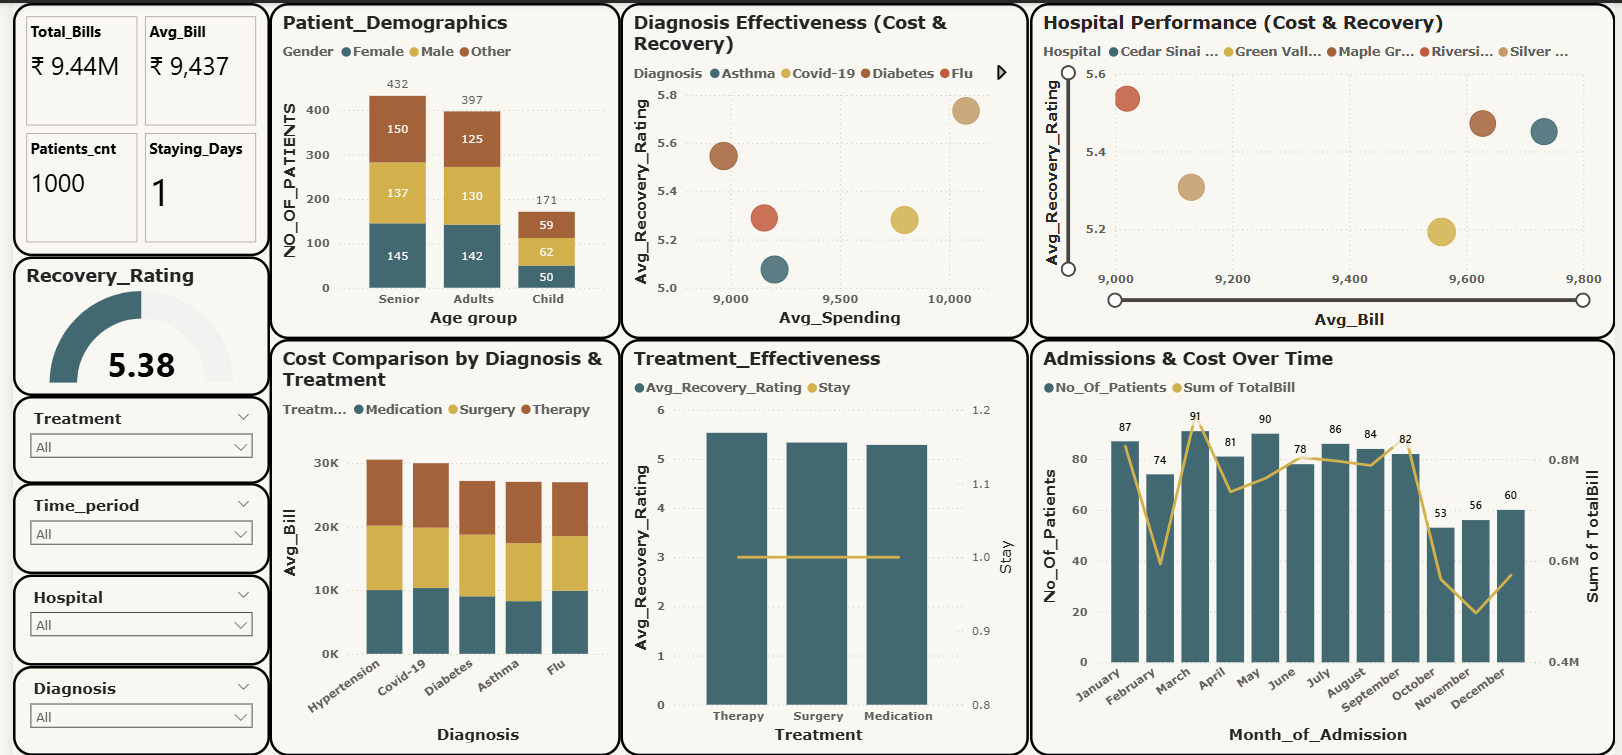

This screenshot's page, from the dashboard's own definition file:
{"tool":"powerbi","page":{"name":"Dashboad","canvas":[1700,800],"ordinal":1},"visuals":[{"type":"gauge","fields":{"Y":["Avg(hospital.RecoveryRating)"]},"box":[0,268.7,272.4,148.1],"z":0},{"type":"slicer","fields":{"Values":["hospital.Hospital"]},"box":[0,606.9,272.4,96.9],"z":1000},{"type":"columnChart","title":"Patient_Demographics","fields":{"Category":["patient.Age group"],"Y":["Count(patient.PatientID)"],"Series":["patient.Gender"]},"box":[272.4,0,372.9,356.5],"z":2000},{"type":"lineStackedColumnComboChart","title":"Cost Comparison by Diagnosis & Treatment","fields":{"Y":["Avg(patient.TotalBill)"],"Series":["patient.Treatment"],"Category":["patient.Diagnosis"]},"box":[272.4,356.5,372.9,442.4],"z":3000},{"type":"scatterChart","title":"Diagnosis Effectiveness (Cost & Recovery)","fields":{"X":["Avg(patient.TotalBill)"],"Y":["Avg(hospital.RecoveryRating)"],"Size":["CountNonNull(patient.PatientID)"],"Series":["patient.Diagnosis"]},"box":[645.3,0,433.2,356.5],"z":4000},{"type":"slicer","fields":{"Values":["patient.Treatment"]},"box":[0,416.8,272.4,93.2],"z":5000},{"type":"slicer","fields":{"Values":["patient.Diagnosis"]},"box":[0,703.8,272.4,95.1],"z":6000},{"type":"lineStackedColumnComboChart","title":"Admissions & Cost Over Time","fields":{"Category":["merged.Month_of_Admission"],"Y":["Count(patient.PatientID)"],"Y2":["Sum(patient.TotalBill)"]},"box":[1078.5,356.5,621.5,442.4],"z":7000},{"type":"slicer","fields":{"Values":["patient.AdmissionDate.Variation.Date Hierarchy.Year","patient.AdmissionDate.Variation.Date Hierarchy.Quarter","patient.AdmissionDate.Variation.Date Hierarchy.Month","patient.AdmissionDate.Variation.Date Hierarchy.Day"]},"box":[0,510,272.4,96.9],"z":8000},{"type":"scatterChart","title":"Hospital Performance (Cost & Recovery)","fields":{"X":["Avg(patient.TotalBill)"],"Y":["Avg(hospital.RecoveryRating)"],"Series":["hospital.Hospital"],"Size":["Count(hospital.PatientID)"]},"box":[1078.5,0,621.5,356.5],"z":9000},{"type":"lineStackedColumnComboChart","title":"Treatment_Effectiveness","fields":{"Category":["patient.Treatment"],"Y":["Avg(hospital.RecoveryRating)"],"Y2":["Avg(patient.LengthOfStay)"]},"box":[645.3,356.5,433.2,442.4],"z":10000},{"type":"cardVisual","fields":{"Data":["Sum(patient.TotalBill)","Avg(patient.TotalBill)","Count(patient.PatientID)","Avg(patient.LengthOfStay)"]},"box":[0,0,272.4,268.7],"z":11000}]}

Visuals, with their boxes in screenshot pixels (x1, y1, x2, y2), scaled from the page's 1700x800 canvas onto the 1622x755 screenshot:
gauge - Avg(hospital.RecoveryRating): Rect(0, 254, 260, 393)
slicer - hospital.Hospital: Rect(0, 573, 260, 664)
"Patient_Demographics" columnChart: Rect(260, 0, 616, 336)
"Cost Comparison by Diagnosis & Treatment" lineStackedColumnComboChart: Rect(260, 336, 616, 754)
"Diagnosis Effectiveness (Cost & Recovery)" scatterChart: Rect(616, 0, 1029, 336)
slicer - patient.Treatment: Rect(0, 393, 260, 481)
slicer - patient.Diagnosis: Rect(0, 664, 260, 754)
"Admissions & Cost Over Time" lineStackedColumnComboChart: Rect(1029, 336, 1621, 754)
slicer - patient.AdmissionDate.Variation.Date Hierarchy.Year x patient.AdmissionDate.Variation.Date Hierarchy.Quarter: Rect(0, 481, 260, 573)
"Hospital Performance (Cost & Recovery)" scatterChart: Rect(1029, 0, 1621, 336)
"Treatment_Effectiveness" lineStackedColumnComboChart: Rect(616, 336, 1029, 754)
cardVisual - Sum(patient.TotalBill) x Avg(patient.TotalBill): Rect(0, 0, 260, 254)
